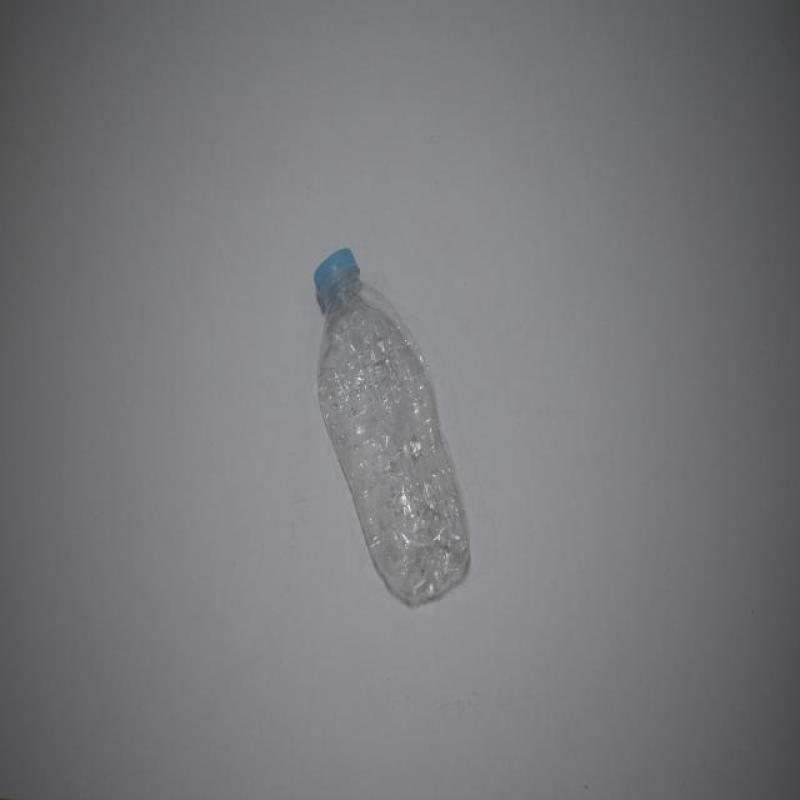botella: (313, 246, 471, 610)
